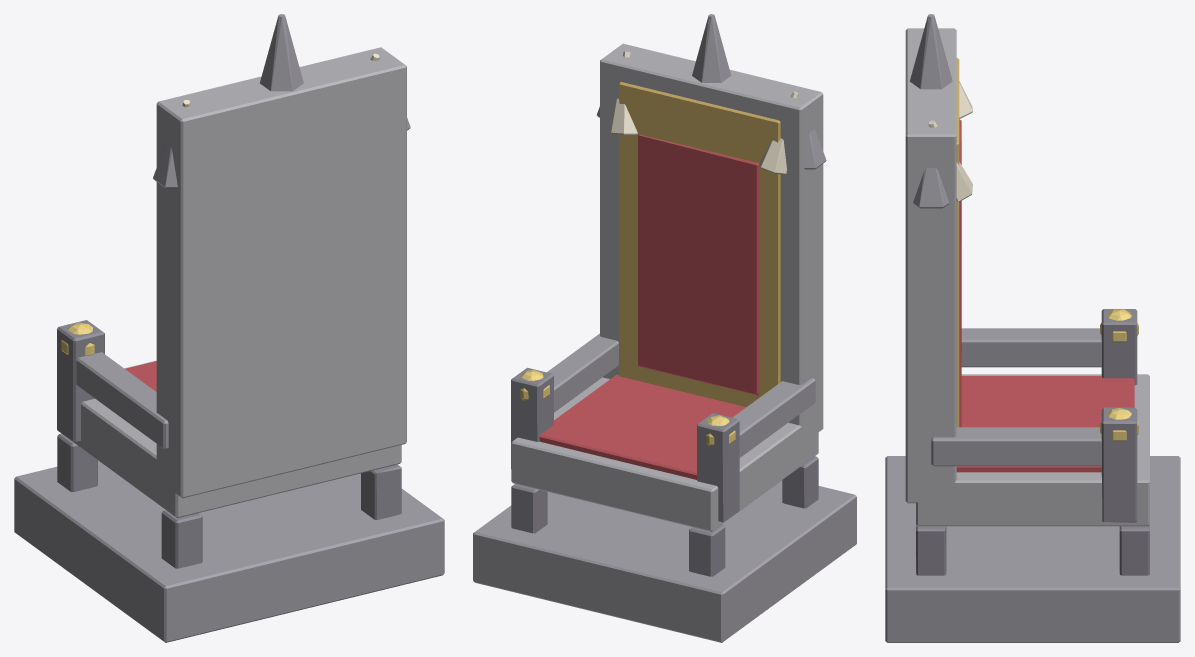
Rendered from dgn_throne.glb.
The picture shows the model from 3 angles, left to right: view 1: azimuth 30°, elevation 25°; view 2: azimuth 150°, elevation 25°; view 3: azimuth 270°, elevation 25°; orthographic projection. The views are drawn at different scales.
Parts seen in each view (by area): view 1: dgn_throne; view 2: dgn_throne; view 3: dgn_throne.
Boxes of the visible parts, x1,y1,x2,y2 form: dgn_throne: (14, 14, 444, 642); dgn_throne: (473, 14, 856, 642); dgn_throne: (885, 14, 1180, 642).
Bounding box in the file's own units: 1.24 × 2.44 × 1.16.
